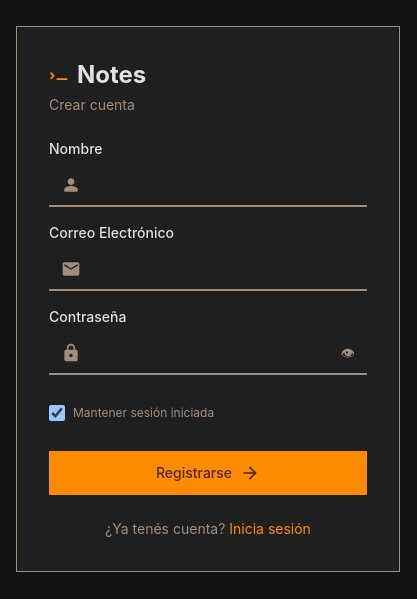
Scenario: RegisterPage › shows validation error when password is less than 8 characters
Type "User" into the field labelled "Nombre". click: [208, 185]
box: [49,163,367,207]
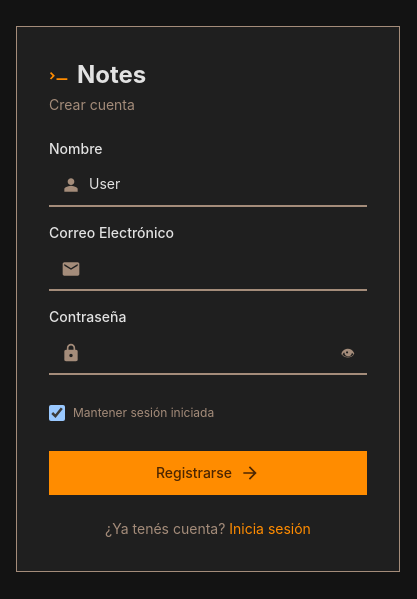
Type "u@t.com" into the field labelled "Correo Electrónico". click: [208, 269]
box: [49,247,367,291]
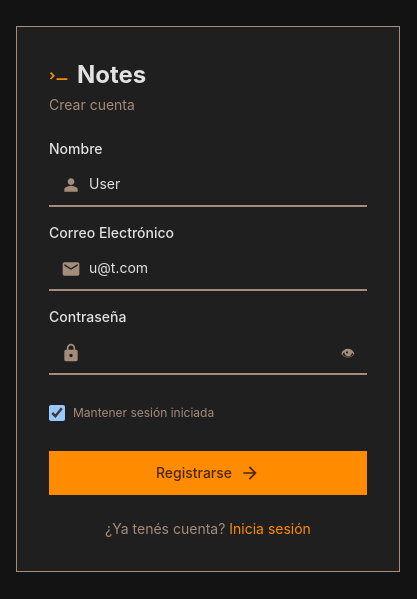
Type "short" into the password field labelled "Contraseña". click: [208, 353]
box: [49,331,367,375]
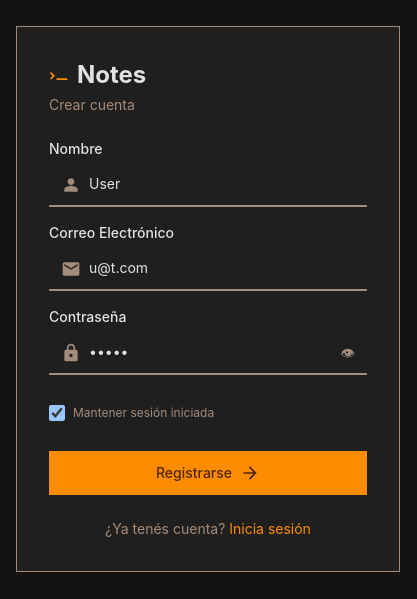
Click the button "Registrarse". click: [208, 473]
box: [49,451,367,495]
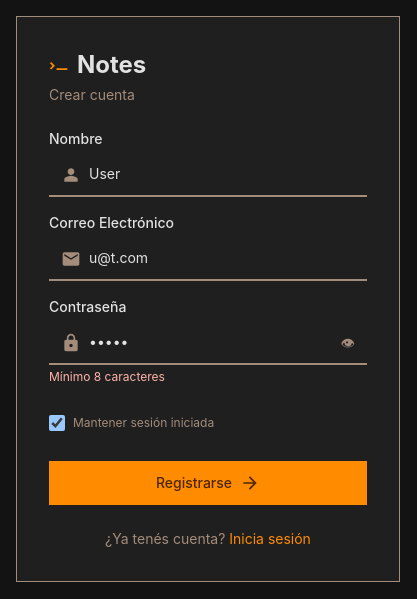
Now the text "Mínimo 8 caracteres" is shown, box [49,369,165,384]
